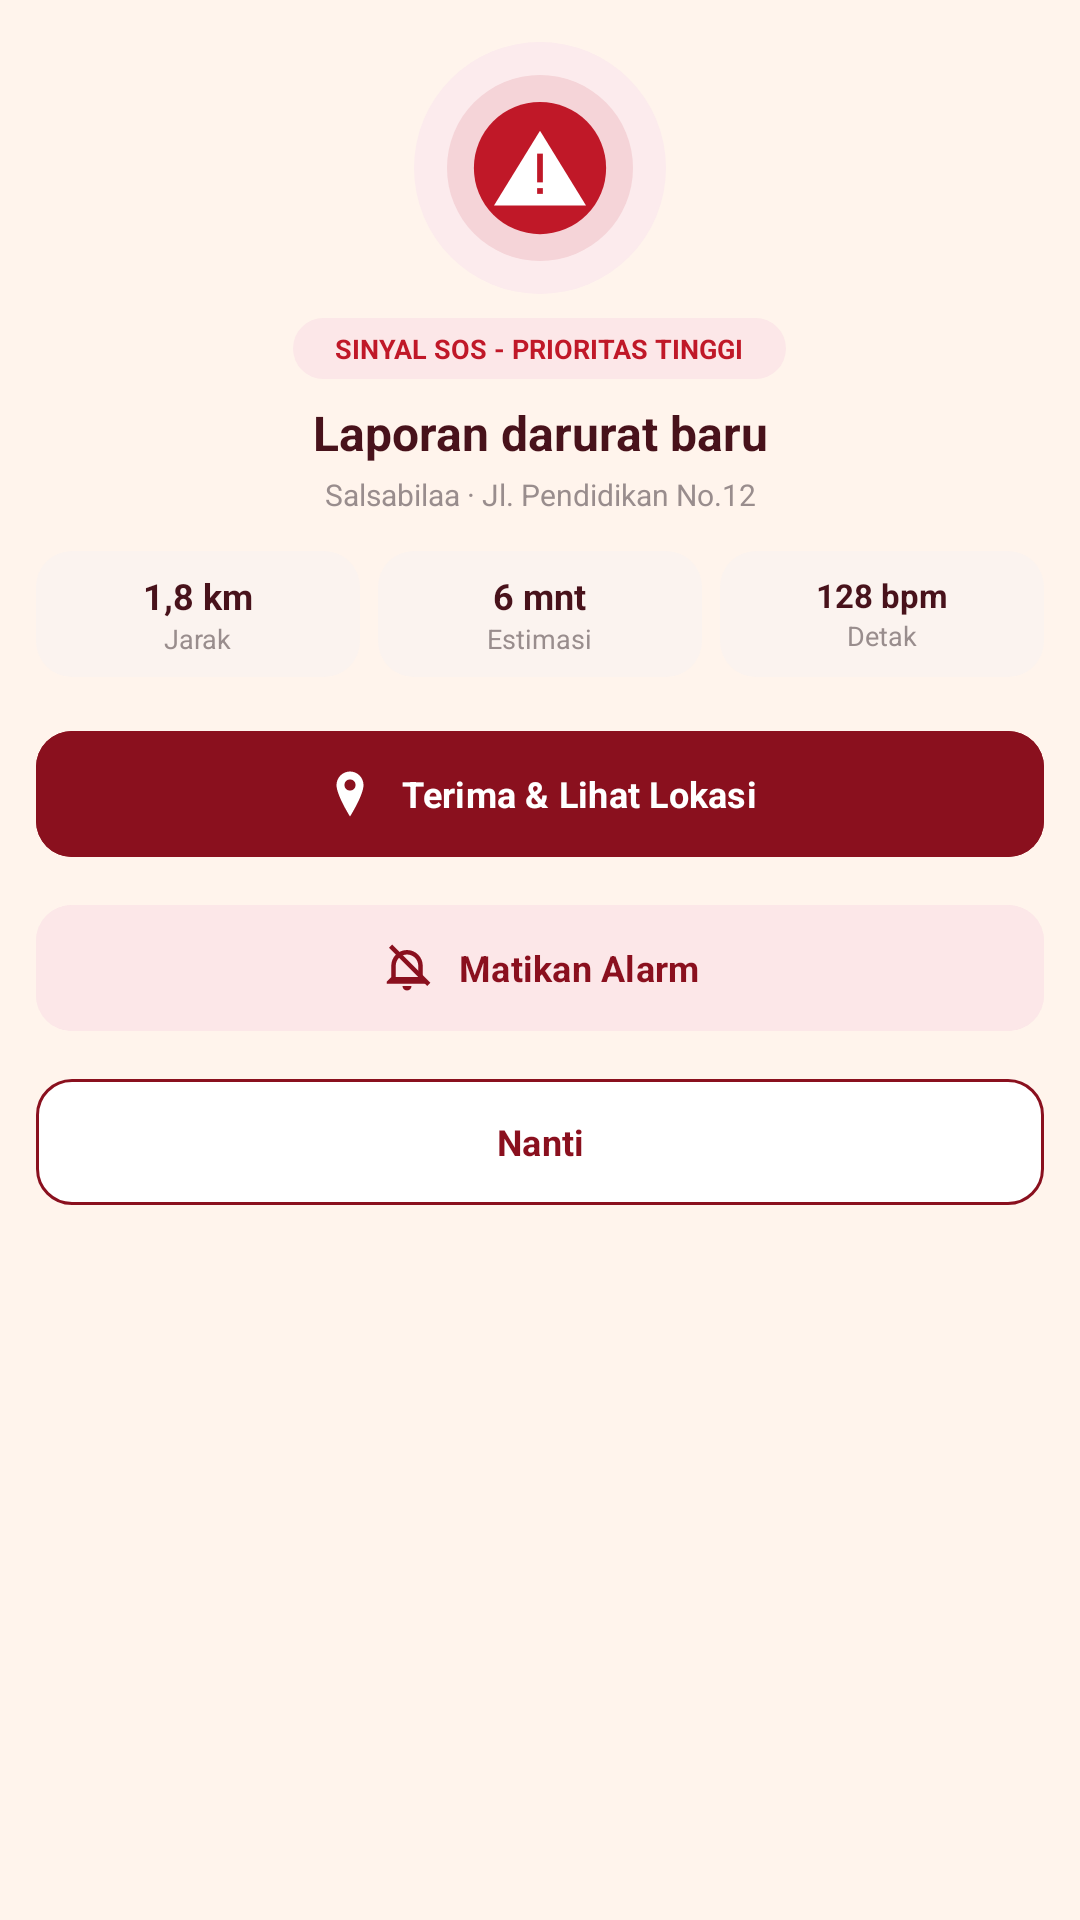

Point at icon controls on the screen. Image size 1080 × 1920, points as (x=x, y=y).
Peringatan SOS: (x=540, y=168)
